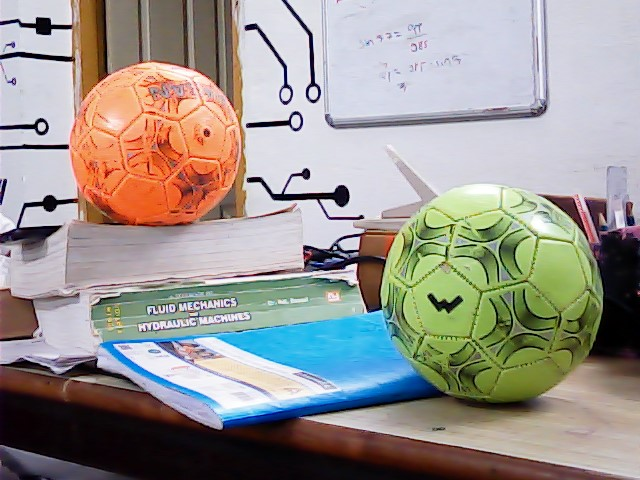Green_ball: (377, 184, 610, 423)
Orange_ball: (66, 57, 260, 229)
